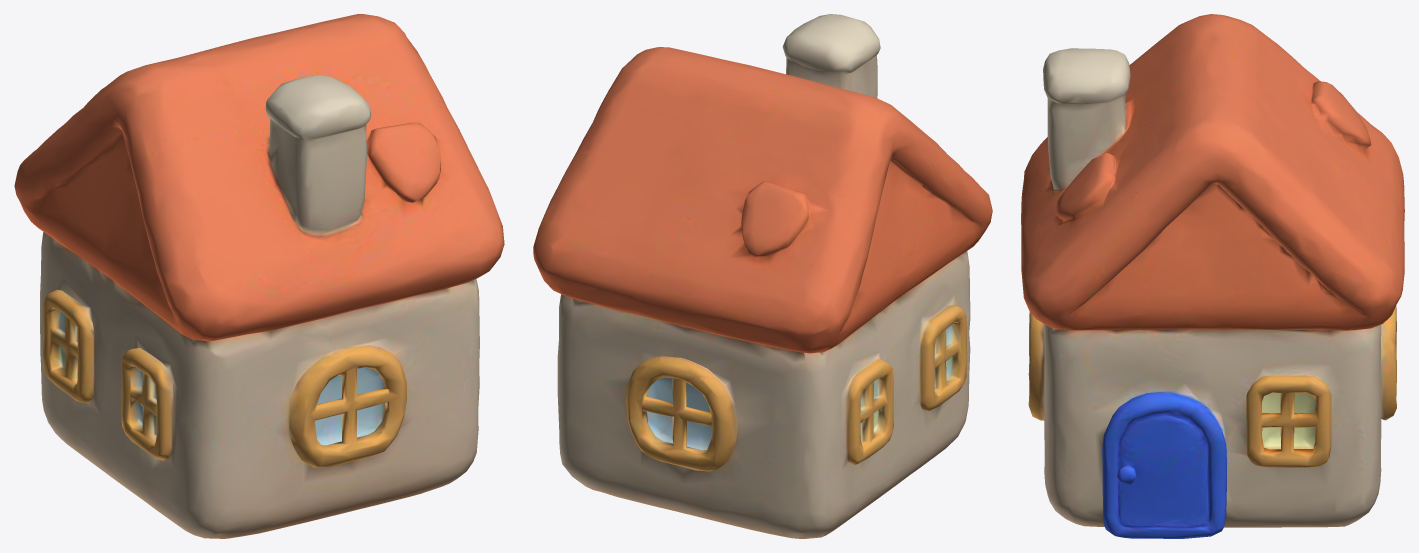
The model's file is casa.glb.
The picture shows the model from 3 angles, left to right: view 1: azimuth 30°, elevation 25°; view 2: azimuth 150°, elevation 25°; view 3: azimuth 270°, elevation 25°; orthographic projection. The views are drawn at different scales.
Visible parts, largest first — view 1: tripo_node_0d21ef73-8c2c-4f90-a3b0-50a40d50074b; view 2: tripo_node_0d21ef73-8c2c-4f90-a3b0-50a40d50074b; view 3: tripo_node_0d21ef73-8c2c-4f90-a3b0-50a40d50074b.
Boxes of the visible parts, x1,y1,x2,y2 form: tripo_node_0d21ef73-8c2c-4f90-a3b0-50a40d50074b: [14, 14, 504, 538]; tripo_node_0d21ef73-8c2c-4f90-a3b0-50a40d50074b: [533, 14, 992, 538]; tripo_node_0d21ef73-8c2c-4f90-a3b0-50a40d50074b: [1021, 14, 1404, 538].
Size of the model in its own units: 0.8269 by 1 by 0.8384.
Materials: 1 (1 with a texture image).
